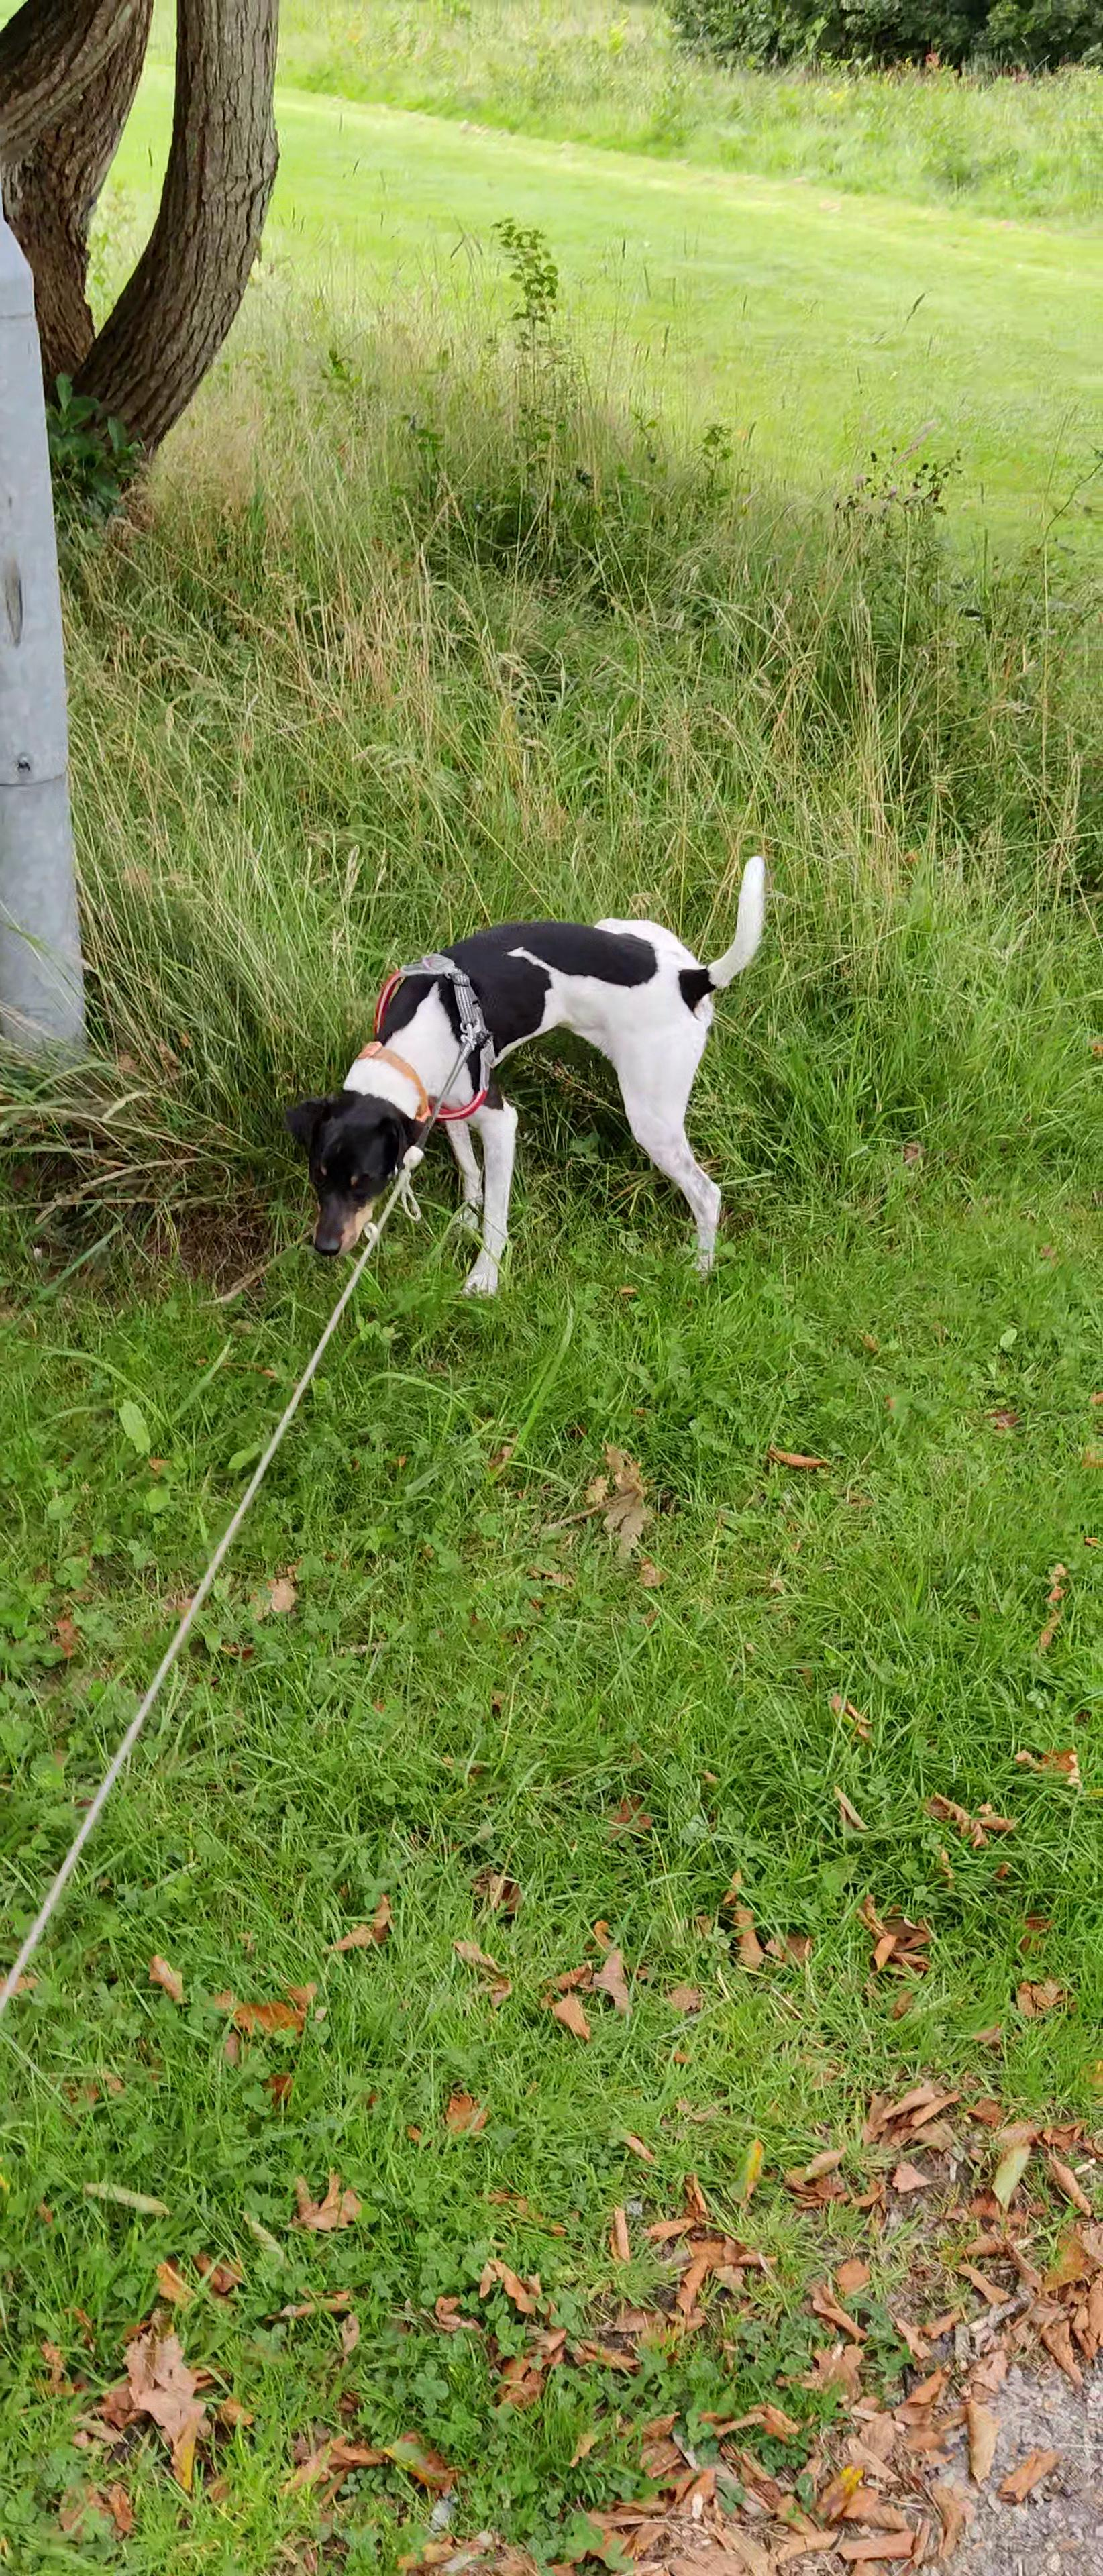Dog: (256, 831, 825, 1321)
